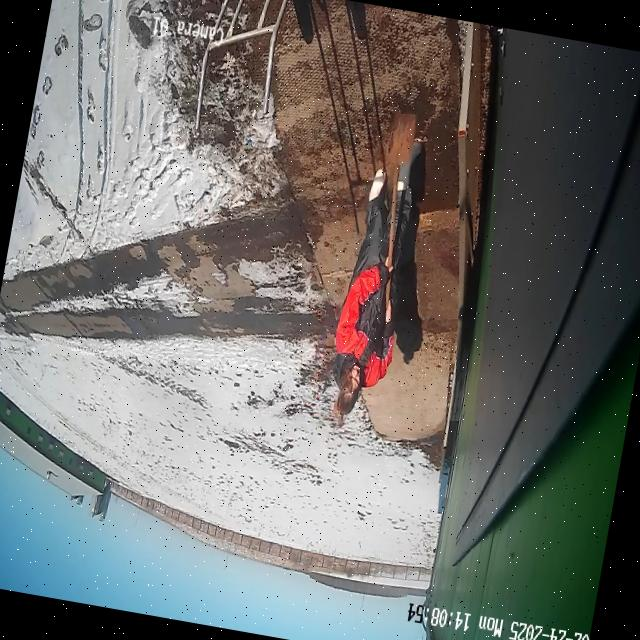Red uniform: (326, 170, 424, 394)
